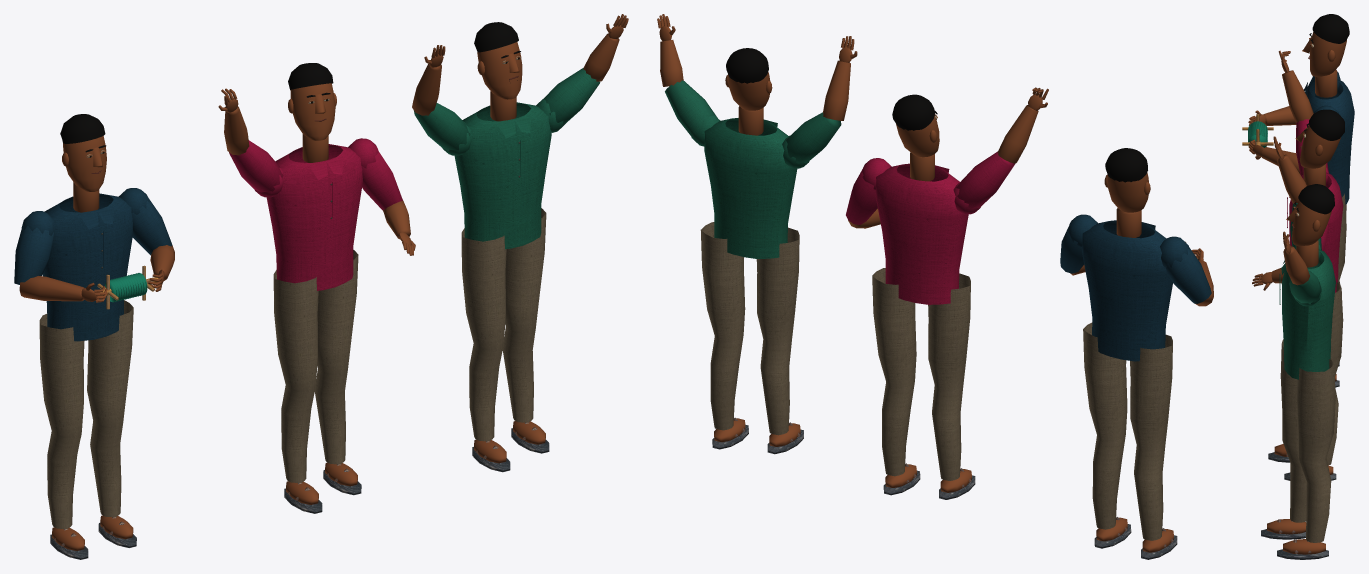
File: char_kite_flyers.glb
The picture shows the model from 3 angles, left to right: view 1: azimuth 30°, elevation 25°; view 2: azimuth 150°, elevation 25°; view 3: azimuth 270°, elevation 25°; orthographic projection. The views are drawn at different scales.
Parts seen in each view (by area): view 1: flyer_cheering, flyer_natai, flyer_pointing; view 2: flyer_cheering, flyer_pointing, flyer_natai; view 3: flyer_cheering, flyer_pointing, flyer_natai.
Part boxes in pixels (box(x1,y1,x2,y2)): flyer_cheering: box(412, 14, 628, 472); flyer_natai: box(14, 114, 174, 559); flyer_pointing: box(218, 63, 415, 513); flyer_cheering: box(657, 14, 857, 454); flyer_pointing: box(846, 87, 1048, 499); flyer_natai: box(1060, 148, 1213, 559); flyer_cheering: box(1261, 136, 1335, 559); flyer_pointing: box(1252, 50, 1344, 480); flyer_natai: box(1242, 14, 1354, 387).
Size of the model in its own units: 2.59 by 1.82 by 0.4942.
Materials: 15 (7 with a texture image).
